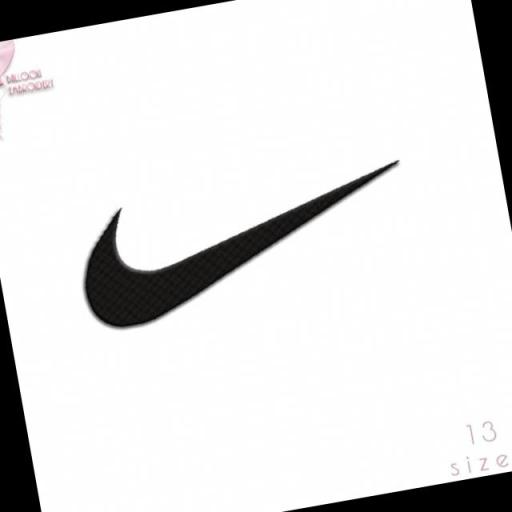Nike: (70, 158, 424, 336)
